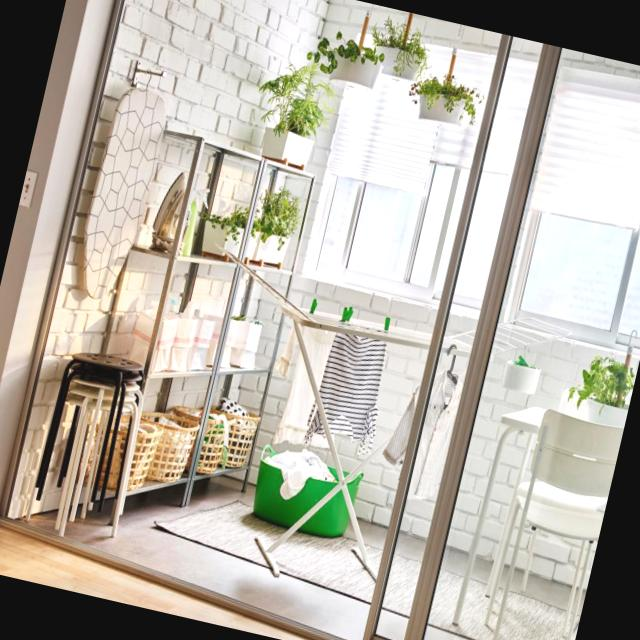obstacle: (200, 270, 478, 618), (468, 399, 625, 640), (18, 323, 170, 546)
